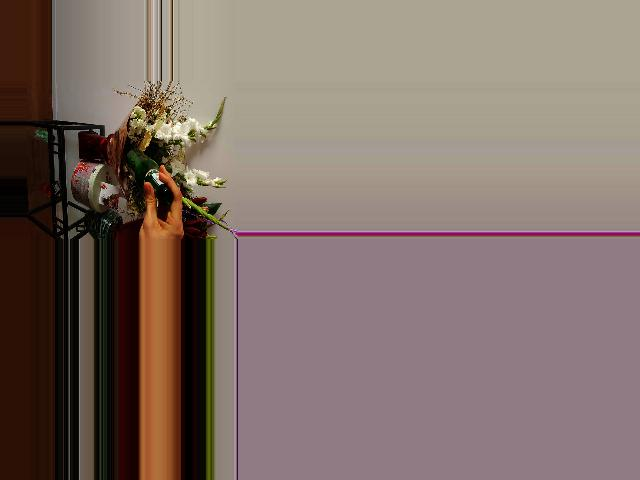beer: (125, 149, 173, 205)
